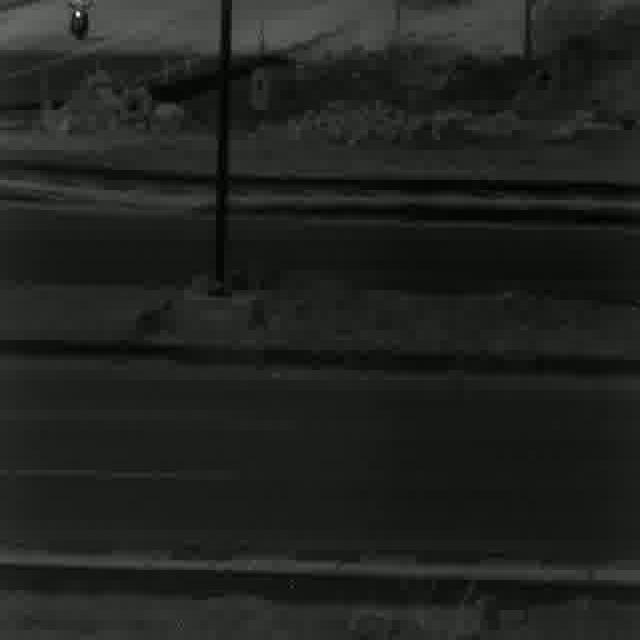Motorcycle: (66, 0, 95, 41)
